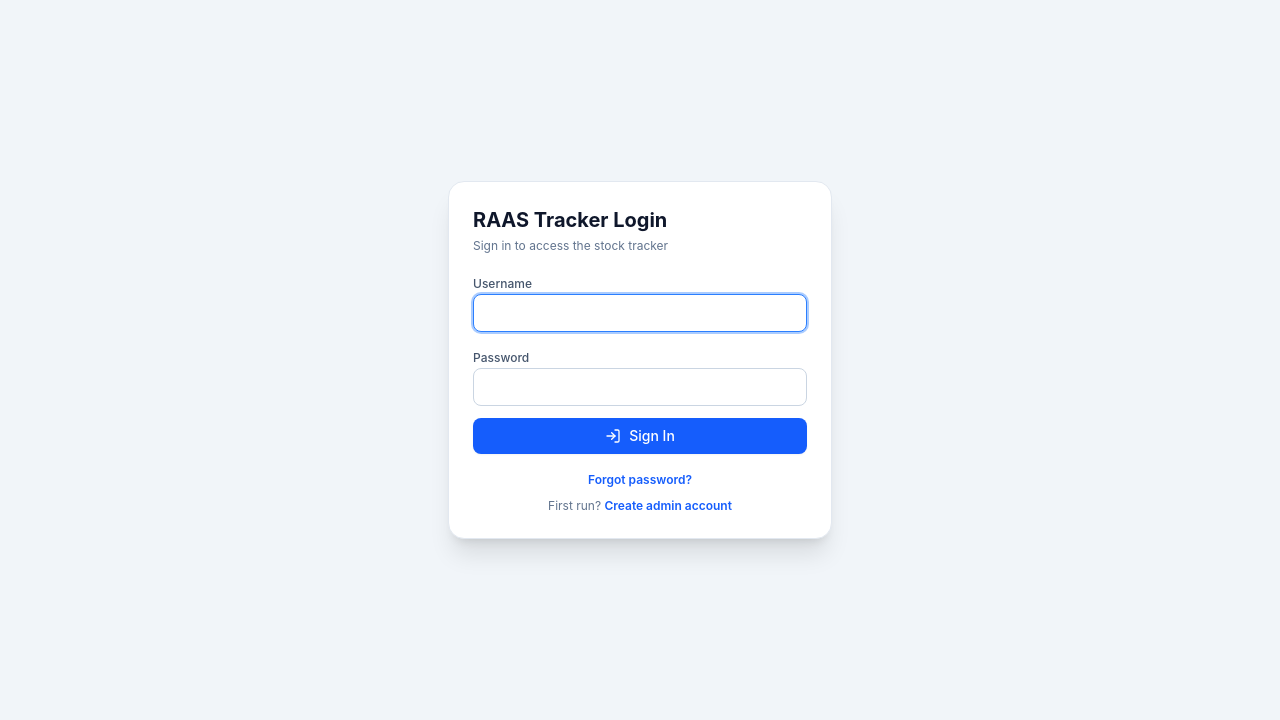
Test: Login forgot-password modal › posts the username and shows a generic success with no existence hint
Expected: the button "Sign In" is shown, [473,418,807,454]
Click the button "Forgot password?". click: (640, 480)
box: [588,472,692,488]
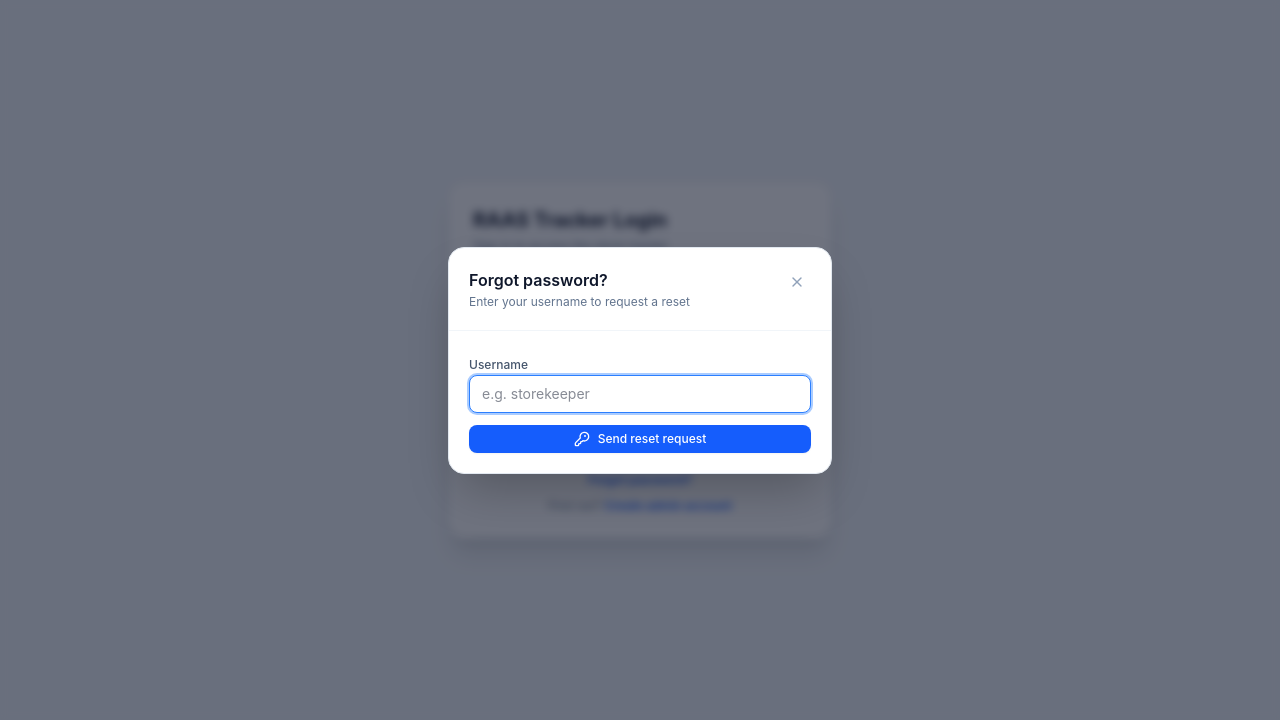
Type "bob" into the field with placeholder "e.g. storekeeper". click: (640, 394)
box: [469,374,811,412]
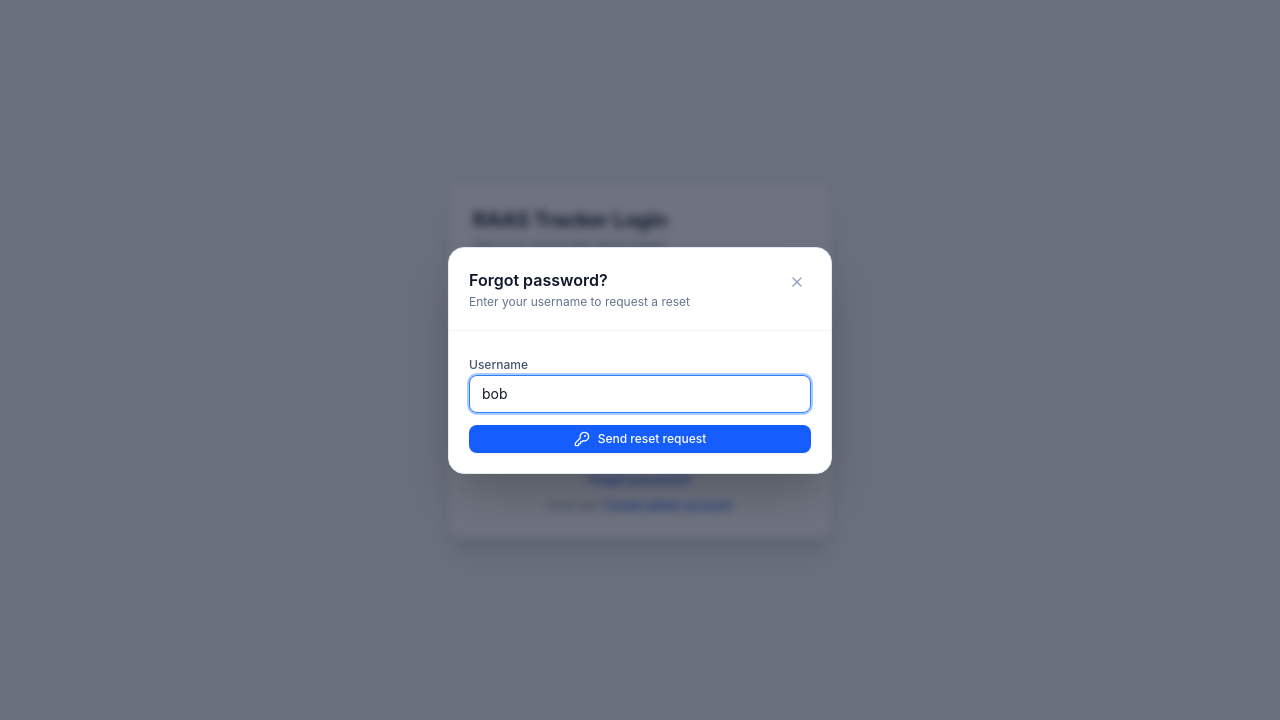
Click the button "Send reset request". click: (640, 438)
box: [469,424,811,452]
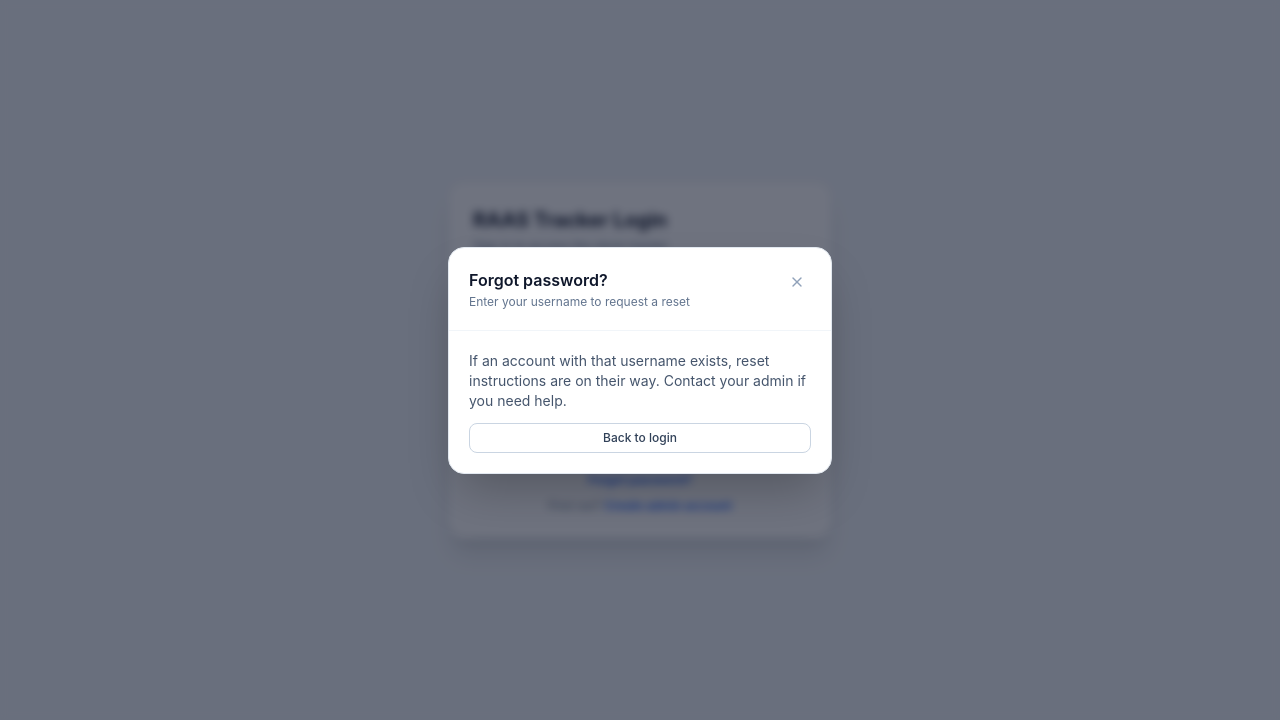
Result: the text "If an account with that username exists" is shown at [469,352,806,408]
